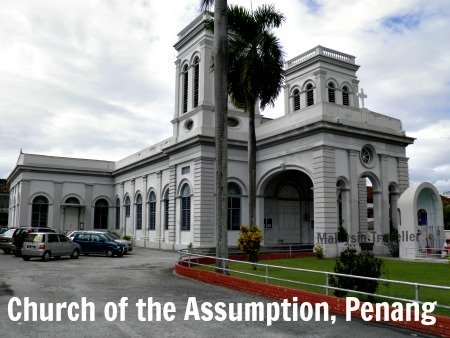Church: (28, 14, 416, 242)
